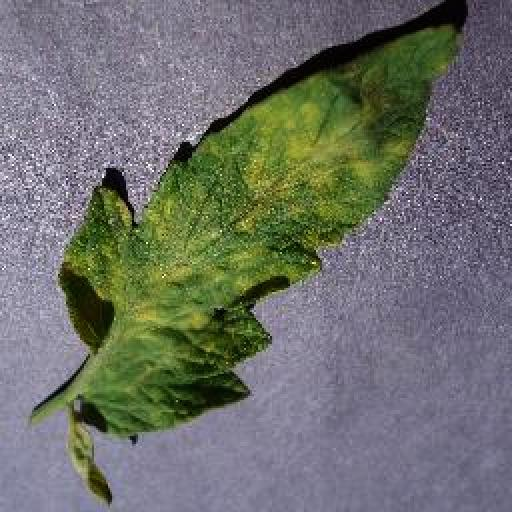disease_tomato: (62, 24, 467, 438)
